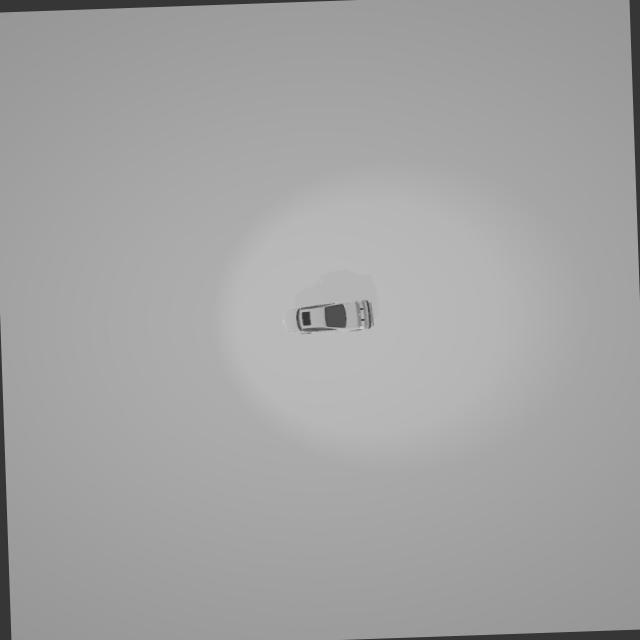Car: (278, 294, 382, 336)
